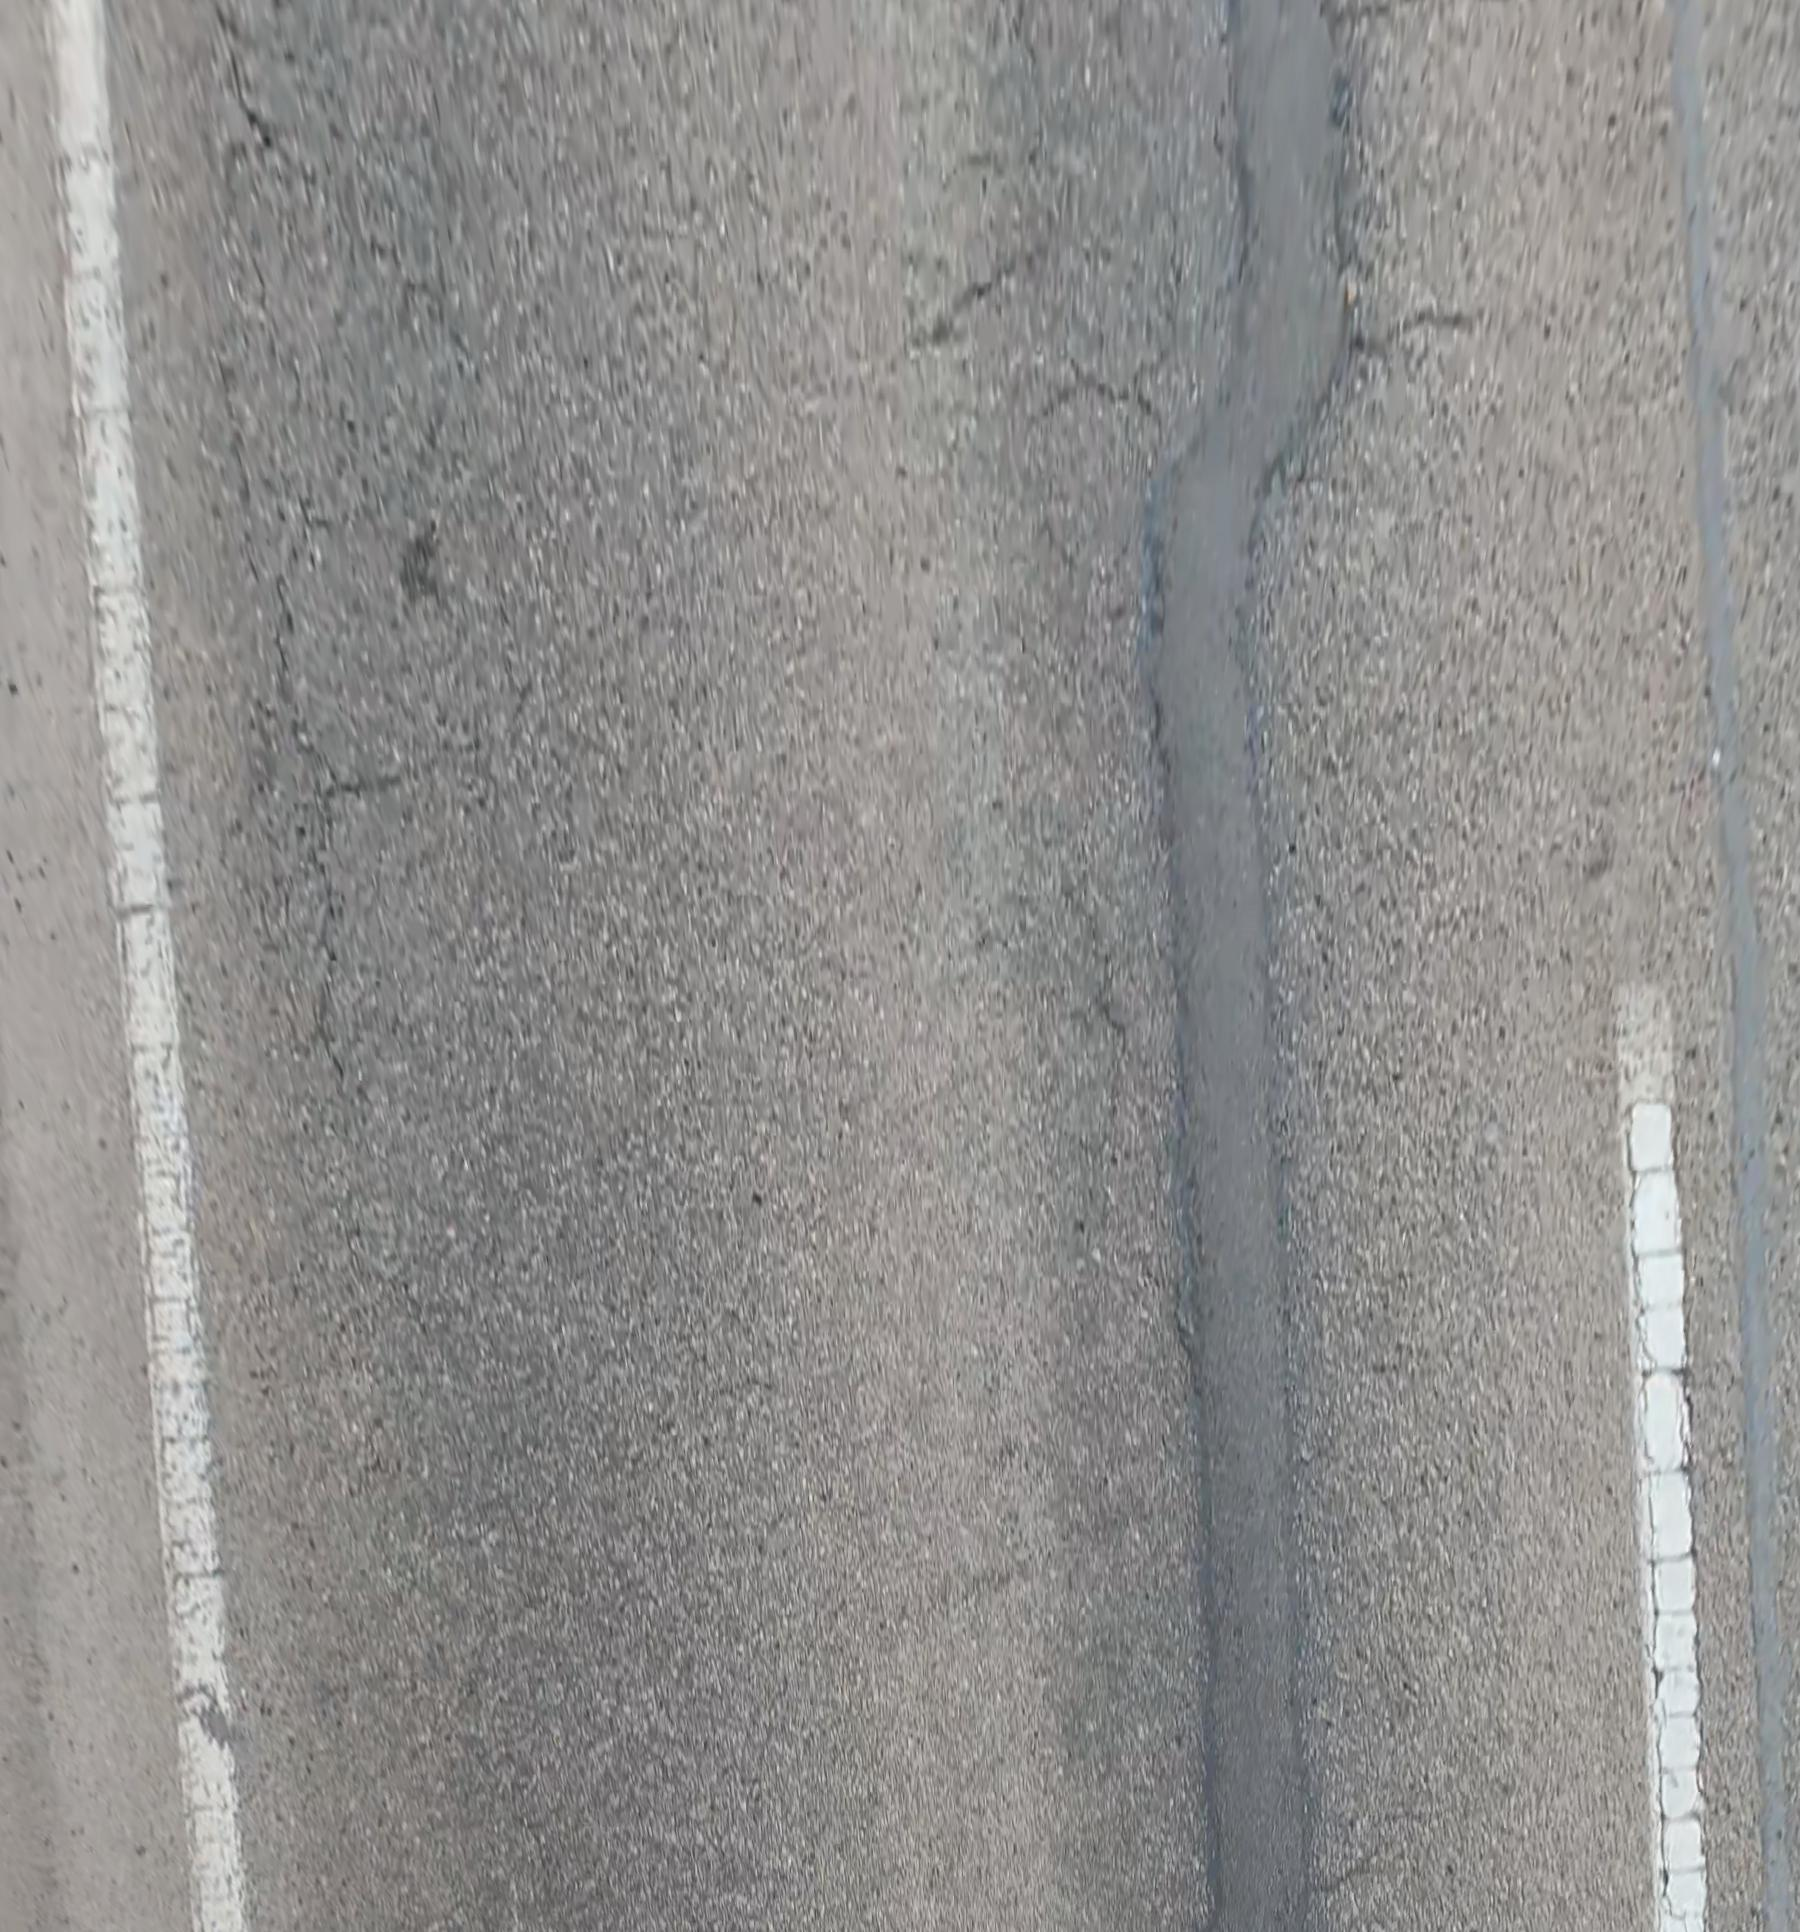pothole_patch_good: (1149, 0, 1350, 1932)
